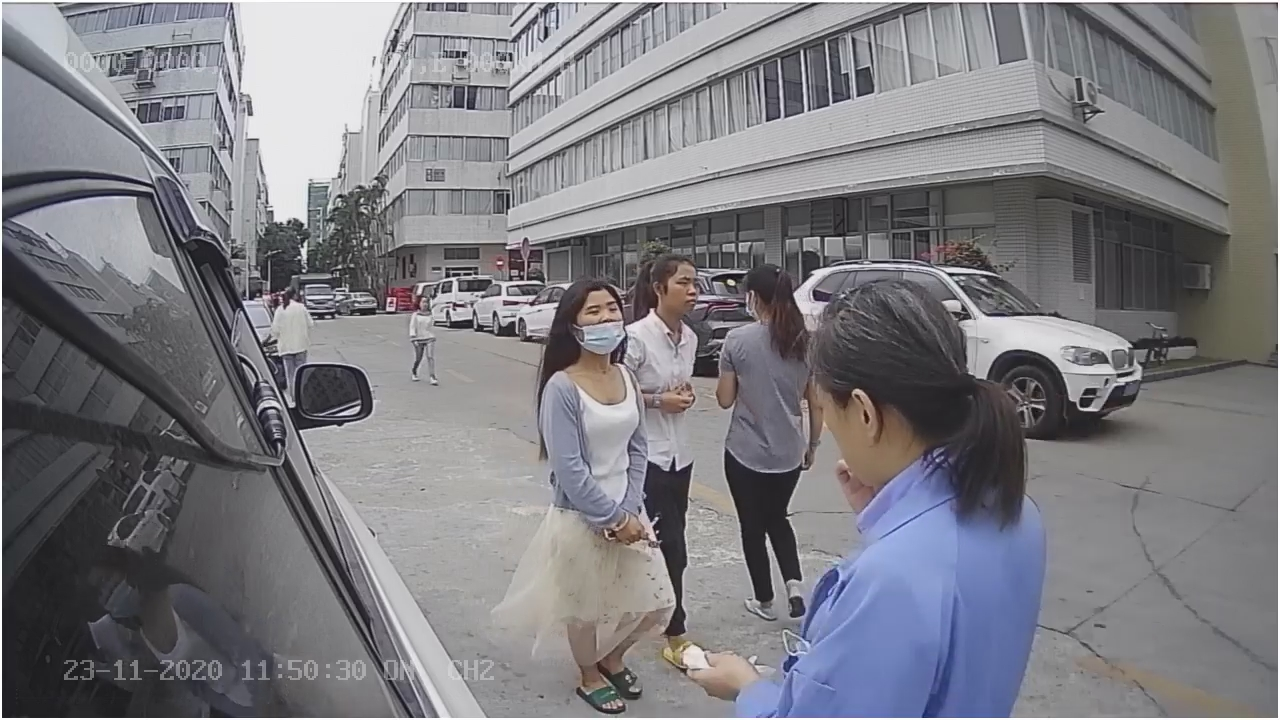person: (522, 271, 658, 712), (716, 248, 820, 620)
